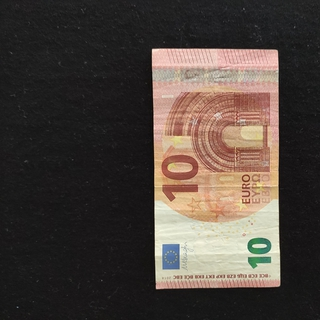10EUROFront: (151, 47, 280, 289)
